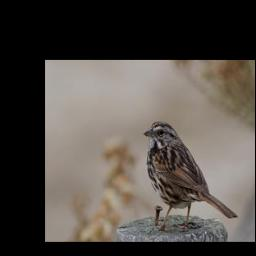Sparrow: (143, 118, 240, 232)
